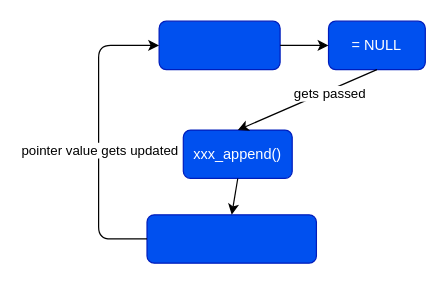
This 446x284 diagram has some shape labels left out. The shapes that lost their labels are listed below. From the top down, each one's centre as x and y in pixels, then its label:
At [219,45]: "Root pointer*".
At [231,238]: "new node gets appended".
